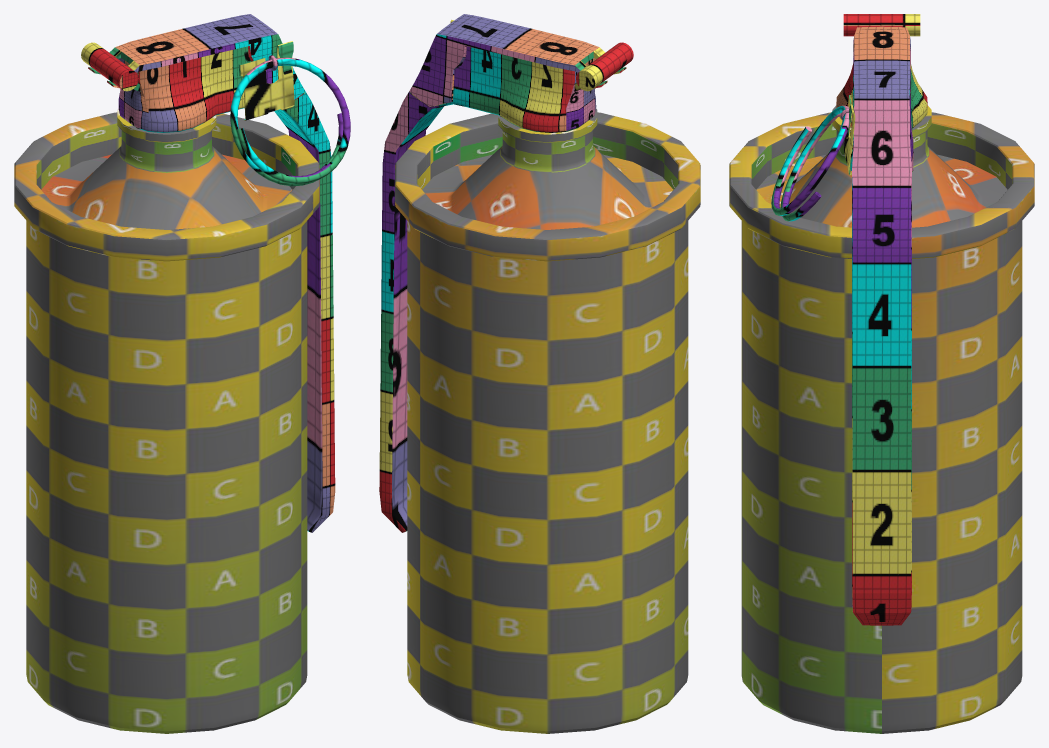
The model's file is Grenade.FBX.
The picture shows the model from 3 angles, left to right: view 1: azimuth 30°, elevation 25°; view 2: azimuth 150°, elevation 25°; view 3: azimuth 270°, elevation 25°; orthographic projection.
Parts seen in each view (by area): view 1: Cylinder001; view 2: Cylinder001; view 3: Cylinder001.
Part boxes in pixels (x1,y1,x2,y2): Cylinder001: (14,14,350,733); Cylinder001: (379,14,700,733); Cylinder001: (729,14,1034,733).
Size of the model in its own units: 0.2665 by 0.5608 by 0.2447.
2 materials, 2 textured.
